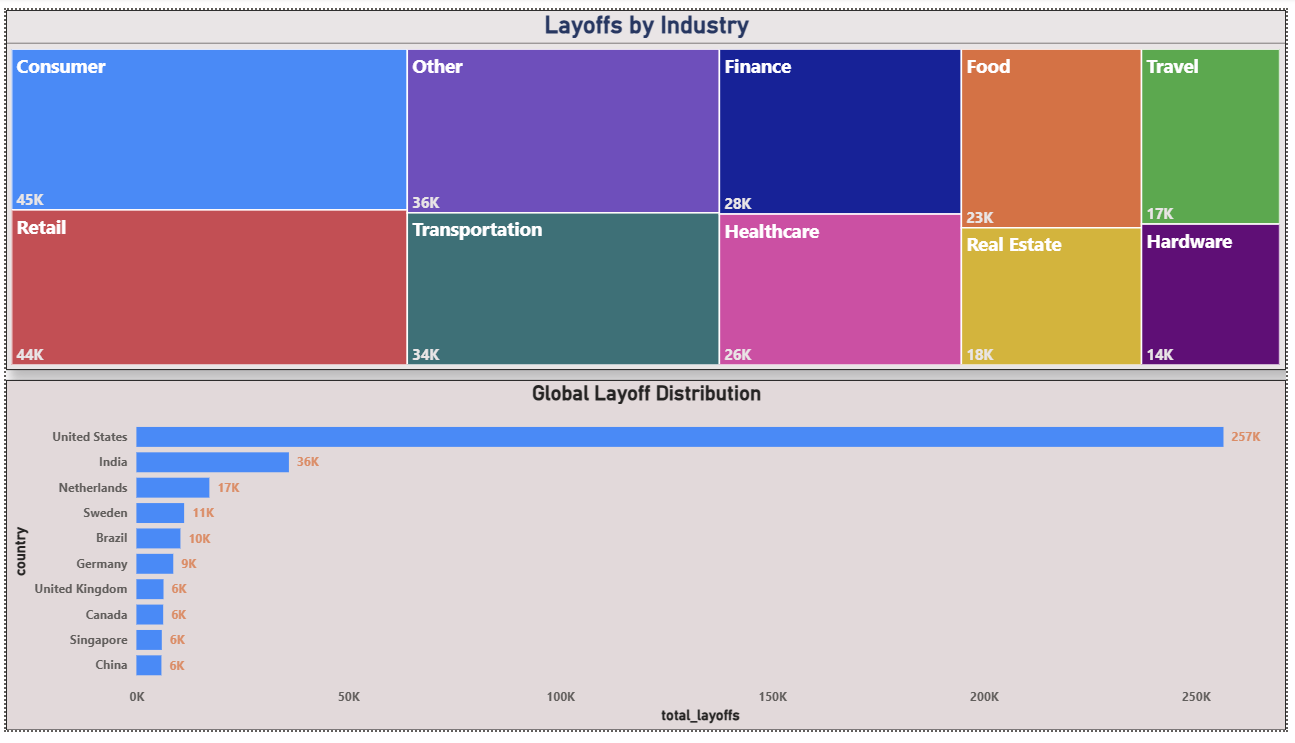

Layout of this report page (visuals, bound fields, positions):
{"tool":"powerbi","page":{"name":" Industry & Geography","canvas":[1280,720],"ordinal":2},"visuals":[{"type":"treemap","title":"Layoffs by Industry","fields":{"Group":["industry_breakdown.industry"],"Values":["Sum(industry_breakdown.total_layoffs)"]},"box":[0,0,1280,360],"z":0},{"type":"clusteredBarChart","title":"Global Layoff Distribution","fields":{"Category":["country_breakdown.country"],"Y":["Sum(country_breakdown.total_layoffs)"]},"box":[0,370,1280,350],"z":1000}]}

Visuals, with their boxes in screenshot pixels (x1, y1, x2, y2), scaled from the page's 1280x720 canvas onto the 1295x743 screenshot:
"Layoffs by Industry" treemap: crop(0, 0, 1294, 372)
"Global Layoff Distribution" clusteredBarChart: crop(0, 382, 1294, 742)
